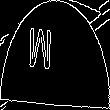M_S: (42, 28, 68, 82)
